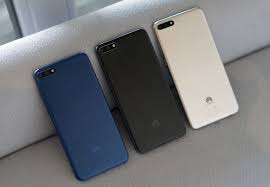vsmart: (31, 48, 128, 181)
